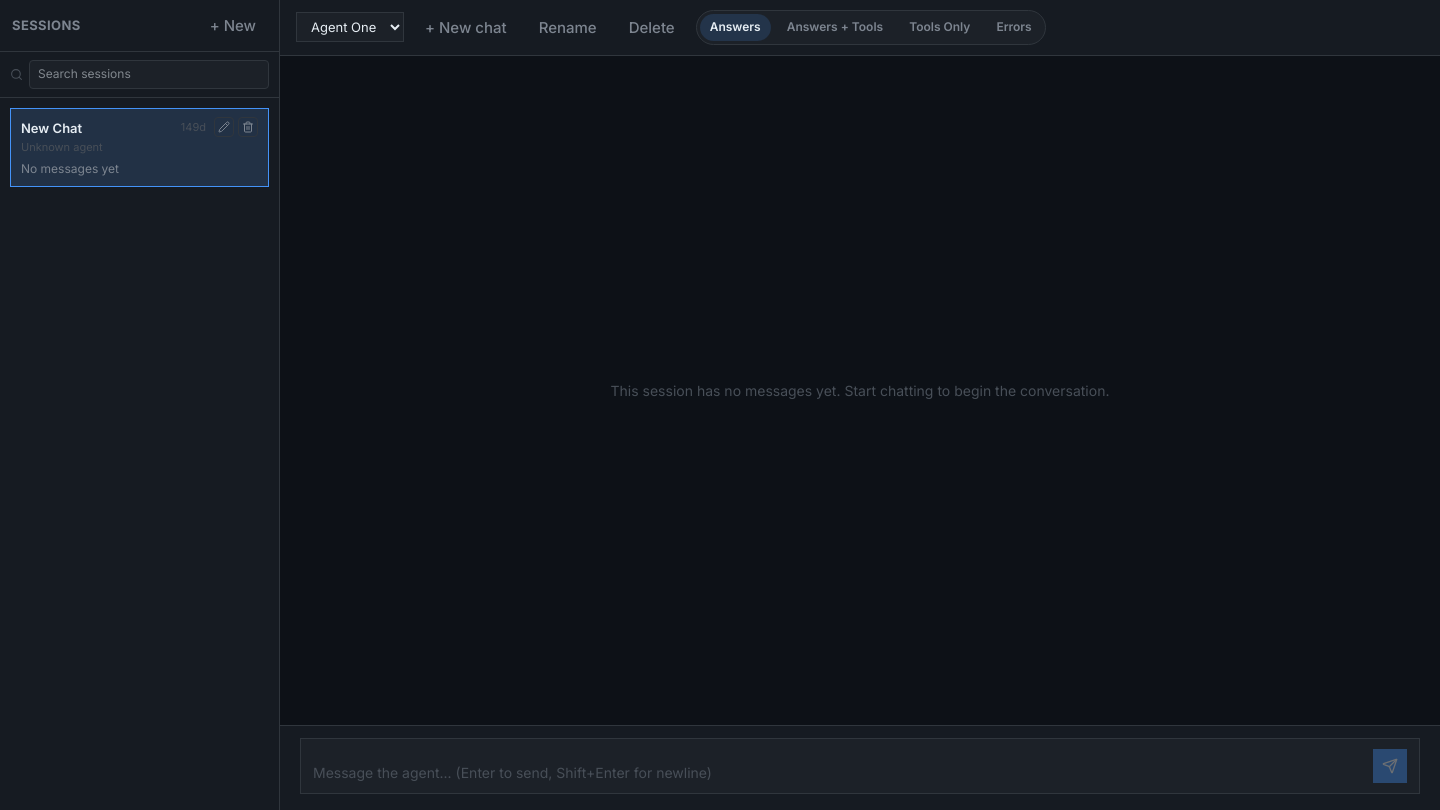
ChatPage › renames a draft session from the first user message
Type "Ask about release blockers" into the text box with placeholder "Message the agent" at (839, 772), box [313, 762, 1365, 783]
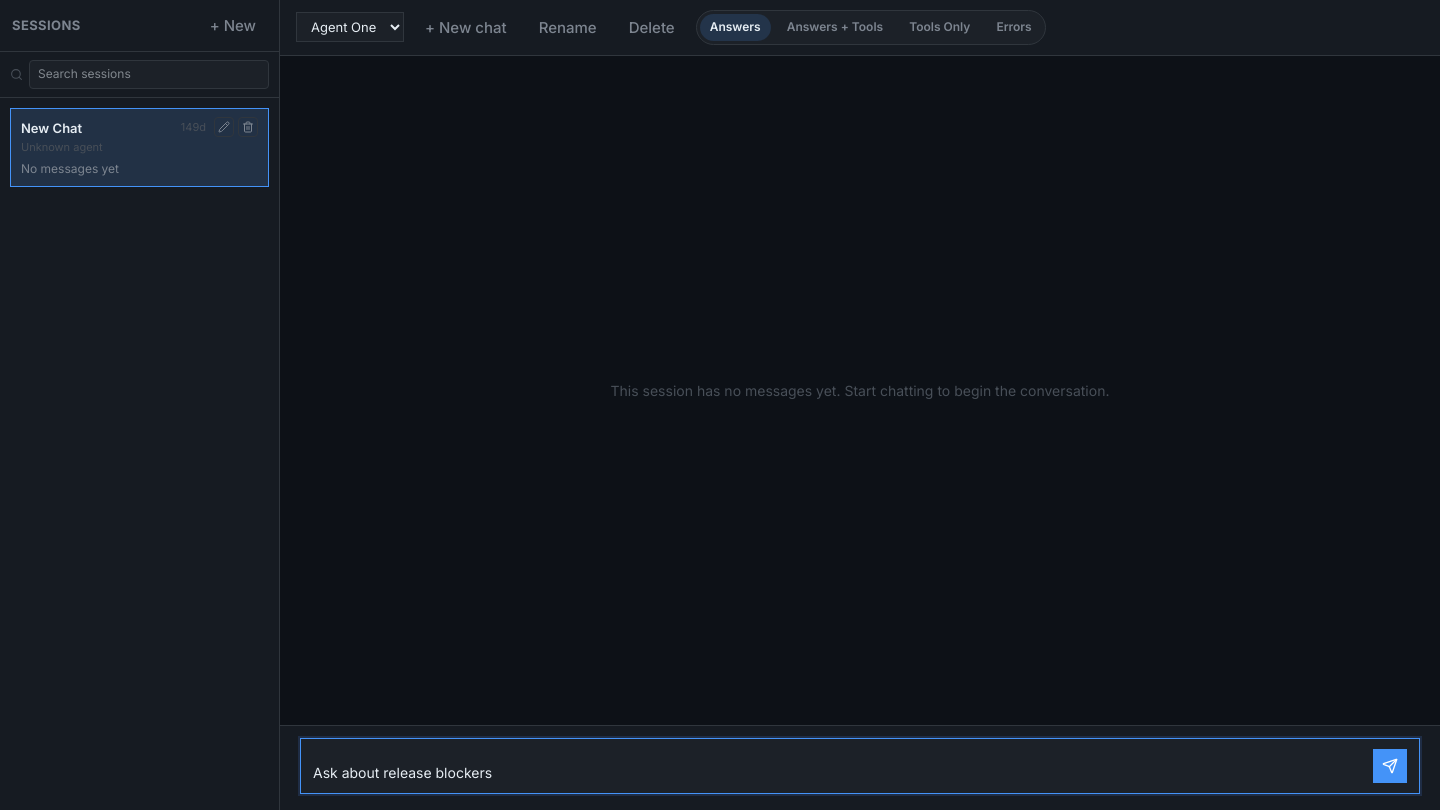
Press Enter
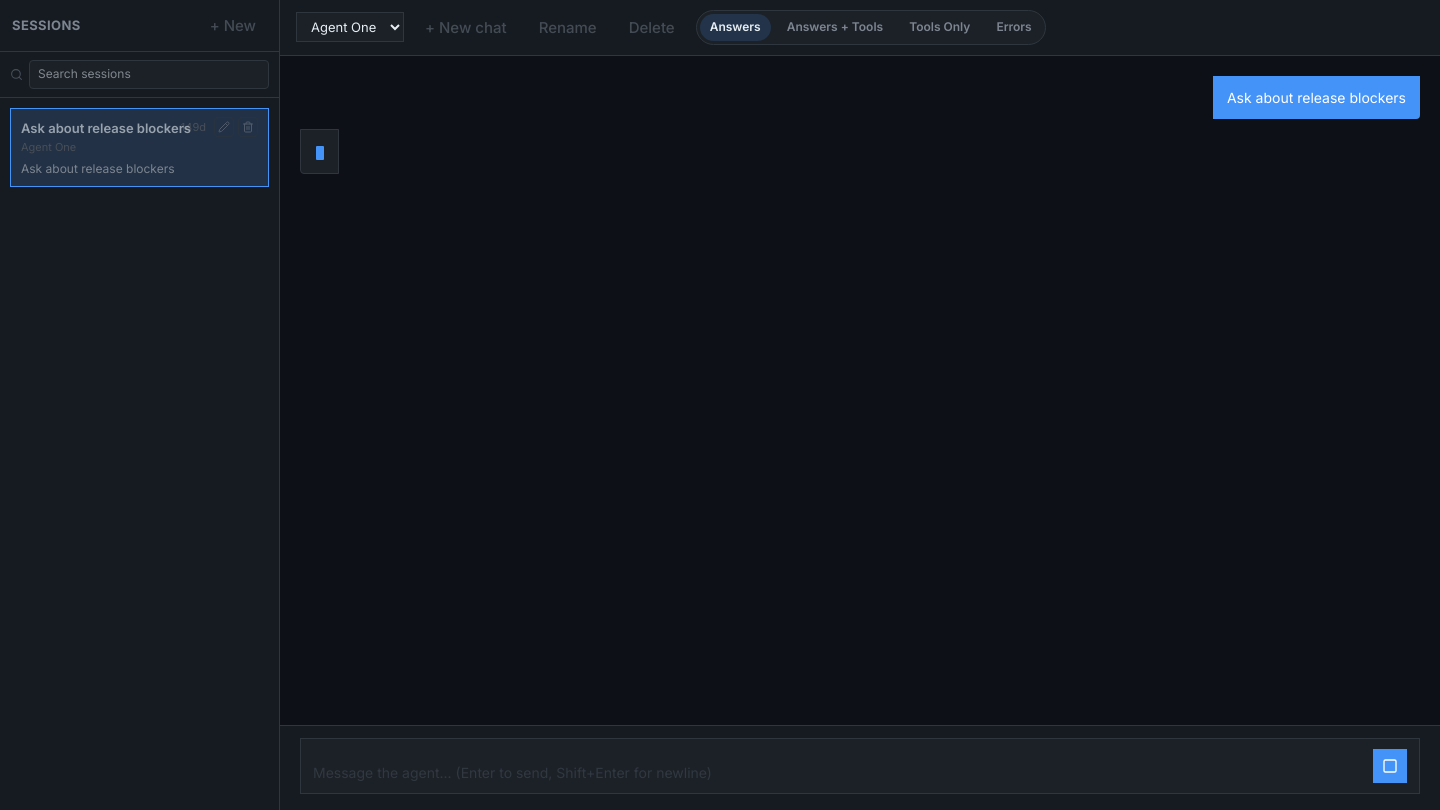
Expected: the button "Ask about release blockers" is shown, [21, 117, 173, 138]
Expected: the 2nd text "Ask about release blockers" is shown, [21, 120, 191, 136]
